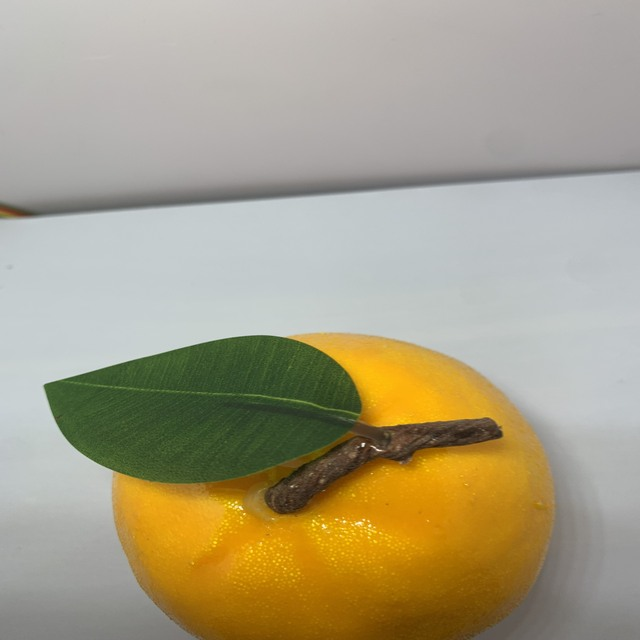Cam vang: (110, 328, 562, 640)
